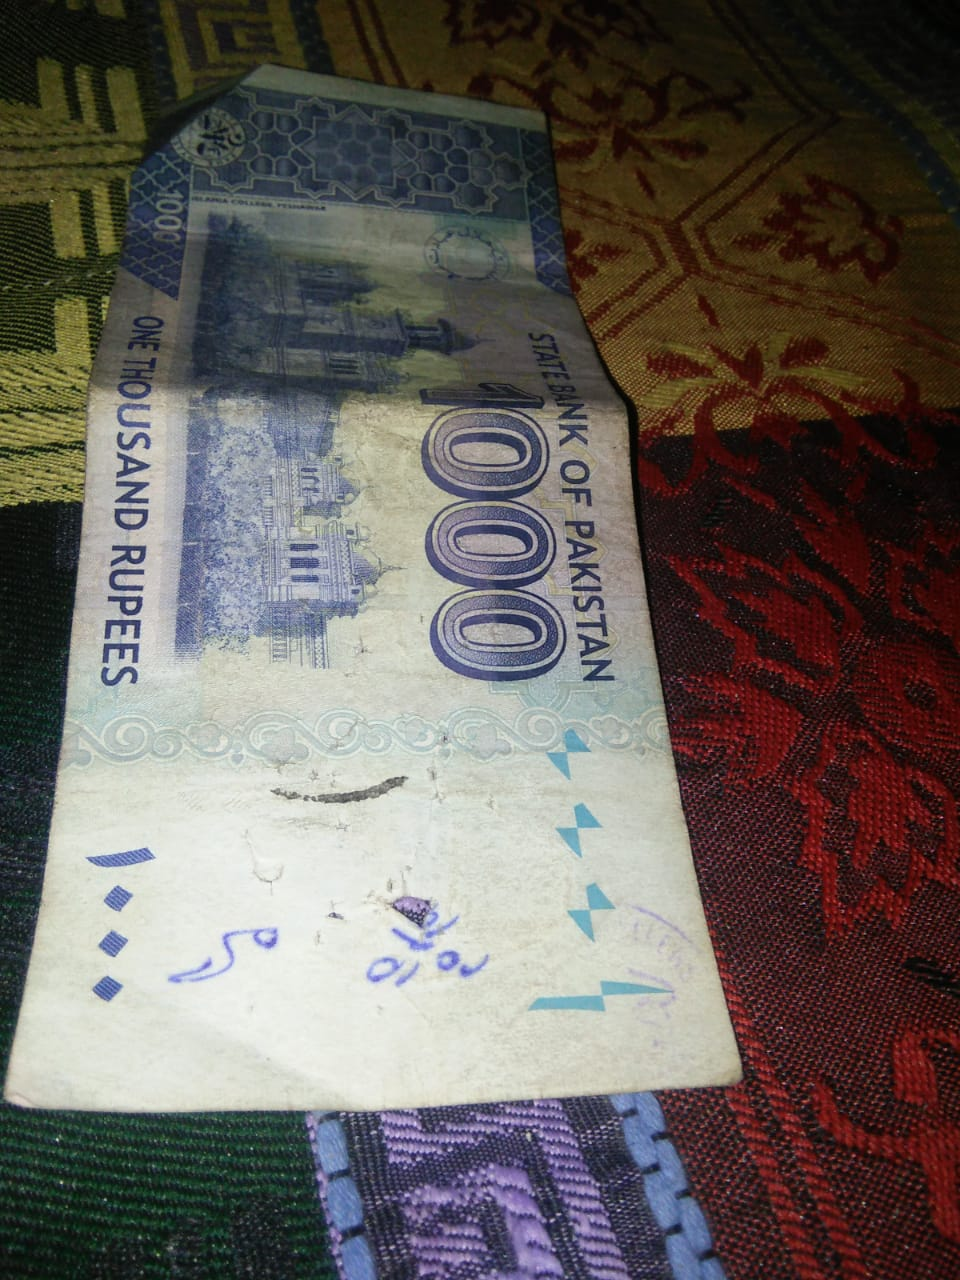1000 rupee: (20, 65, 733, 1242)
